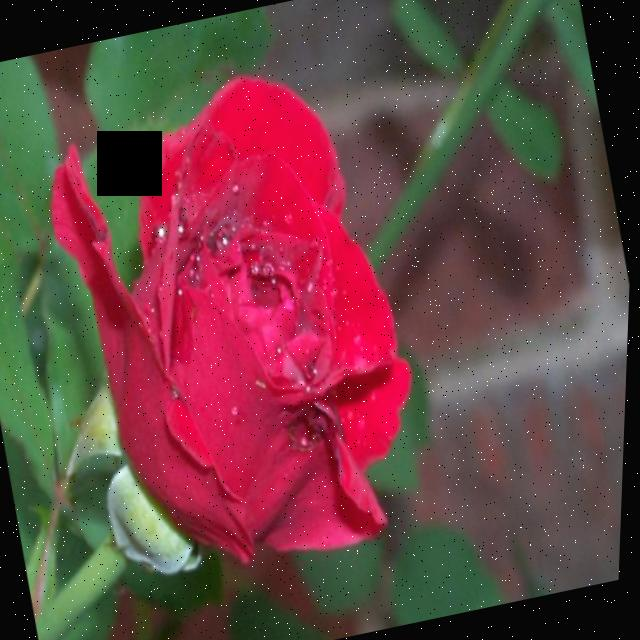rose: (0, 17, 519, 640)
